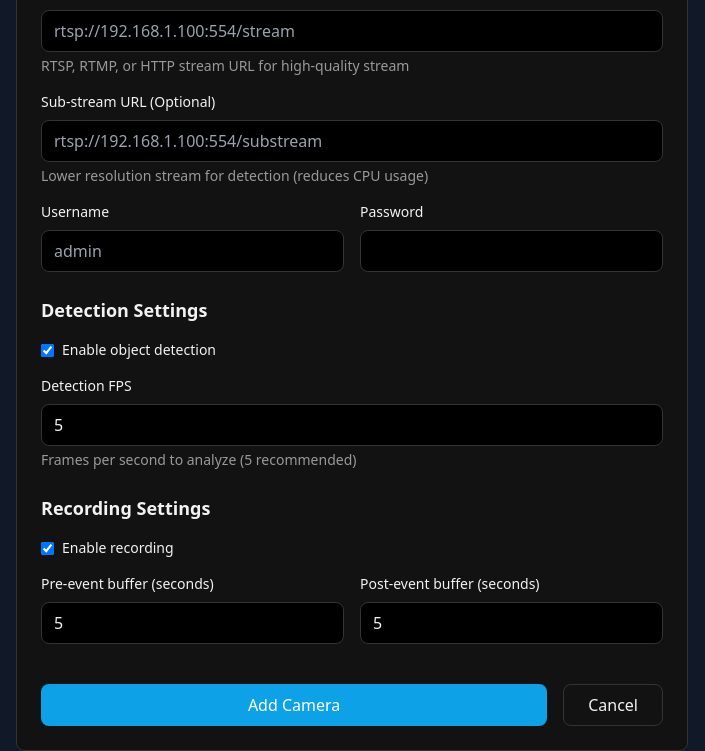
Test case: AddCamera › should hide buffer settings when recording is disabled
The image size is (705, 751).
(page scrolled)
Click the checkbox labelled "Enable recording" at (48, 548), box [41, 542, 54, 554]
(page scrolled)
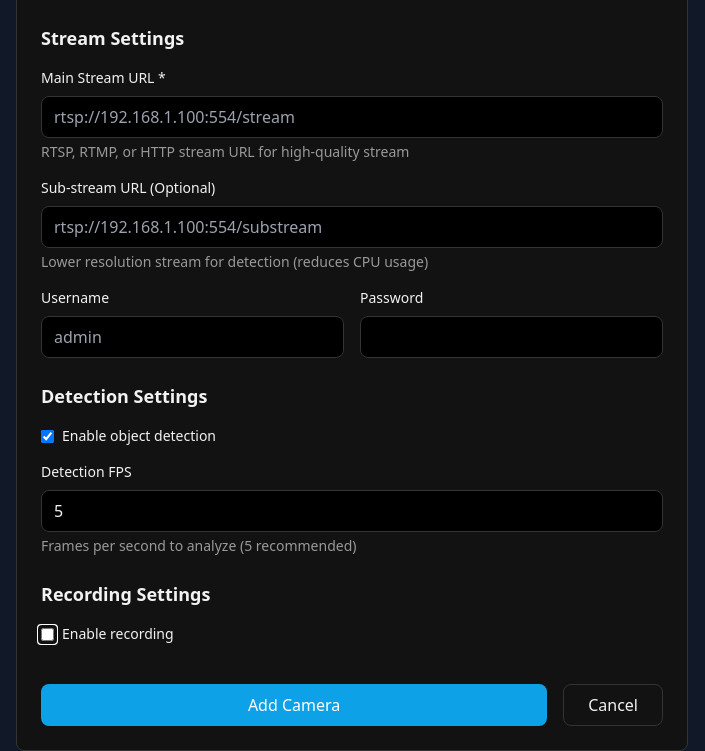
Now the label labelled "Pre-event buffer" is gone
Now the label labelled "Post-event buffer" is gone
